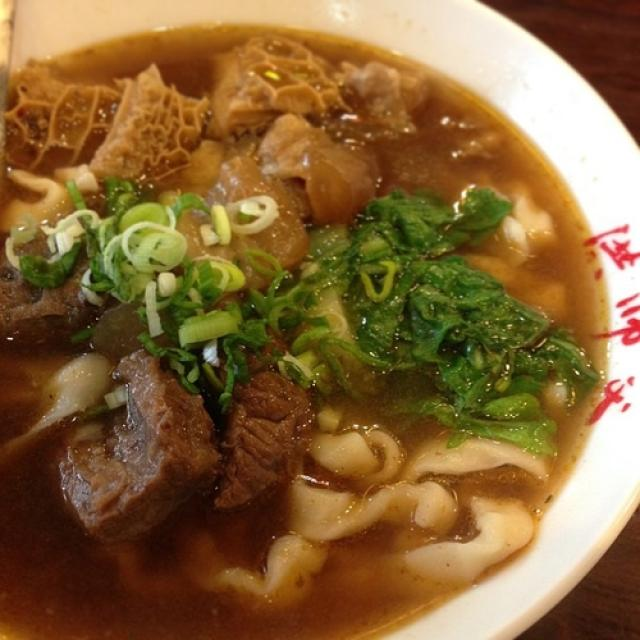面条主食: (8, 28, 603, 613)
